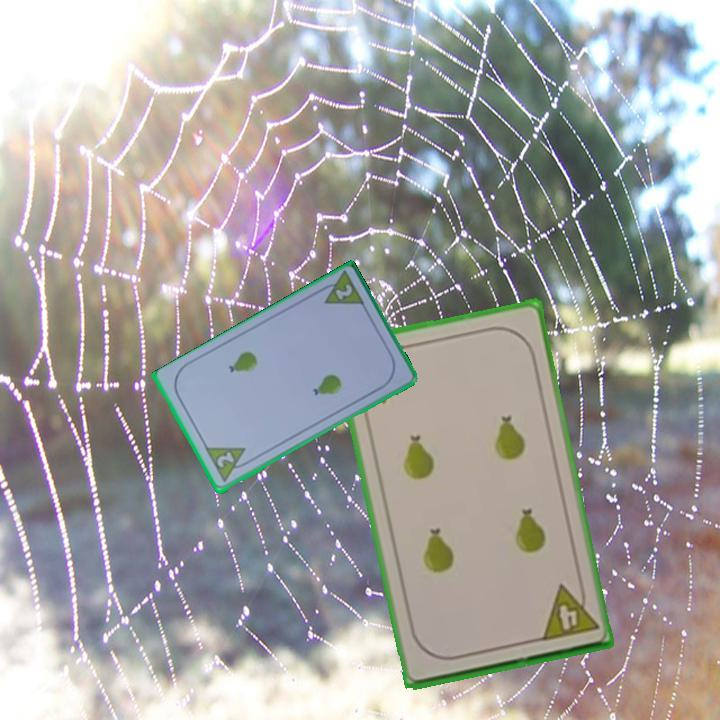2p: (313, 268, 368, 310), (213, 449, 237, 471)
4p: (537, 578, 601, 644)
